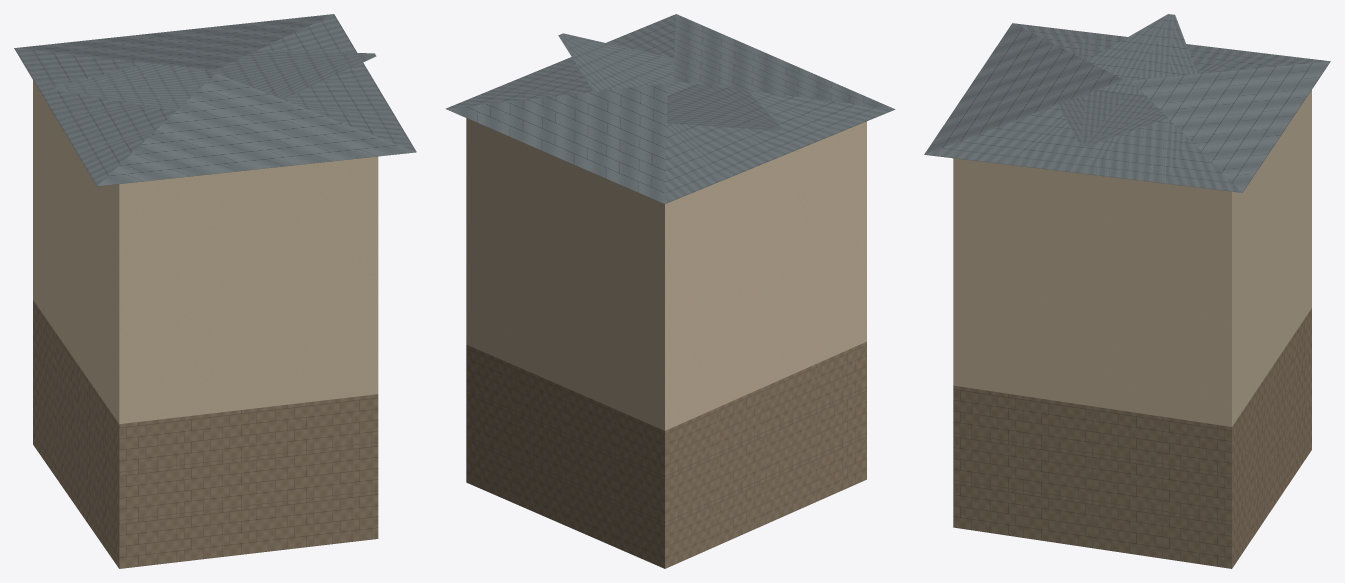
File: bld_c-3_-23_748.gltf
3 renders of one model, left to right at view 1: azimuth 30°, elevation 25°; view 2: azimuth 150°, elevation 25°; view 3: azimuth 270°, elevation 25°, orthographic. The views are drawn at different scales.
Visible parts, largest first — view 1: bld_c-3_-23_748; view 2: bld_c-3_-23_748; view 3: bld_c-3_-23_748.
Part boxes in pixels (x1,y1,x2,y2): bld_c-3_-23_748: (14, 14, 416, 568); bld_c-3_-23_748: (445, 14, 895, 568); bld_c-3_-23_748: (924, 14, 1330, 568).
Bounding box in the file's own units: 13.09 × 14.8 × 13.25.
Materials: 3 (3 with a texture image).
